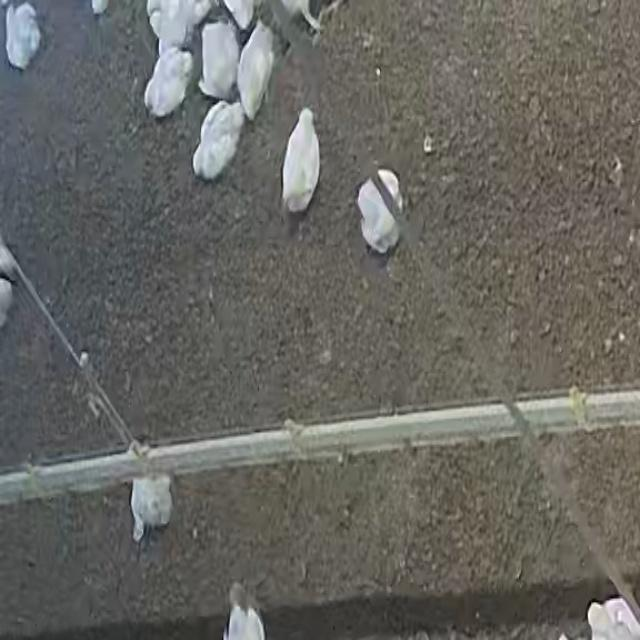chicken: (182, 106, 242, 185), (132, 463, 182, 546), (355, 165, 401, 255), (284, 112, 320, 220), (136, 51, 188, 114), (146, 0, 210, 48), (237, 28, 270, 121), (4, 3, 45, 75), (198, 27, 240, 97)
